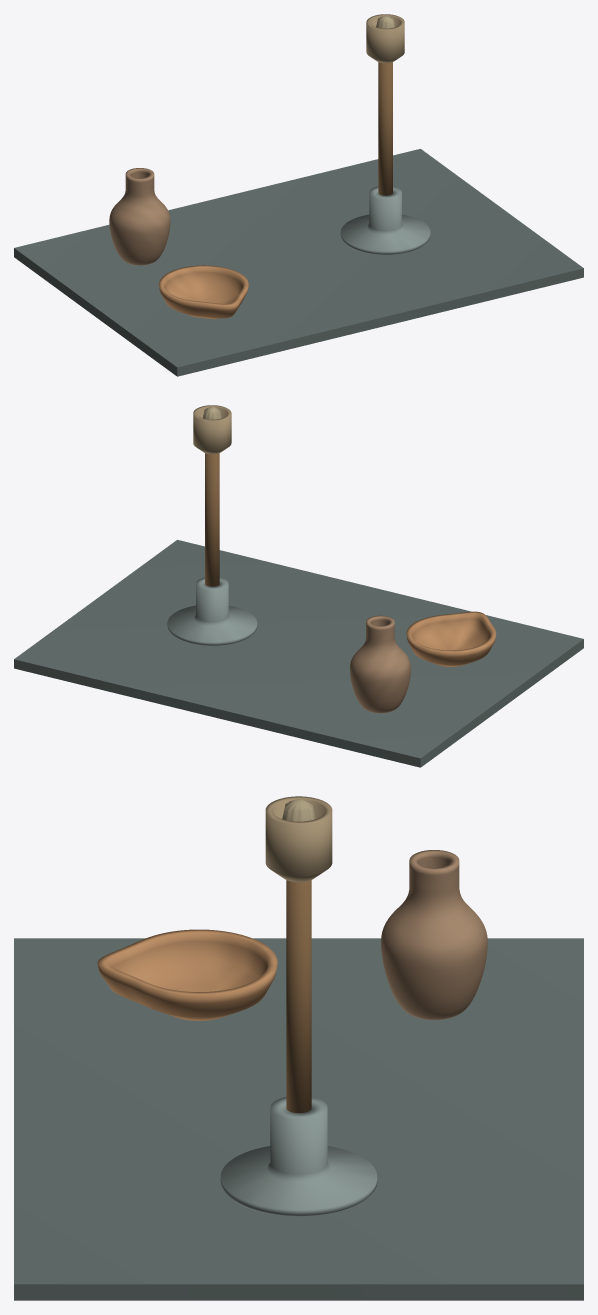
Rendered from parables-light.glb.
The picture shows the model from 3 angles, top to bottom: view 1: azimuth 30°, elevation 25°; view 2: azimuth 150°, elevation 25°; view 3: azimuth 270°, elevation 25°; orthographic projection. The views are drawn at different scales.
Parts seen in each view (by area): view 1: parables-light-parables-modern-dark-neutral-base, parables-light-parables-original-ordinary-empty-oil-bottle, parables-light-parables-original-open-lamp-comparison, parables-light-parables-explicit-modern-socket-support, parables-light-parables-original-selected-torch-staff, parables-light-parables-original-concept-reservoir-cup; view 2: parables-light-parables-modern-dark-neutral-base, parables-light-parables-original-ordinary-empty-oil-bottle, parables-light-parables-original-open-lamp-comparison, parables-light-parables-explicit-modern-socket-support, parables-light-parables-original-selected-torch-staff, parables-light-parables-original-concept-reservoir-cup; view 3: parables-light-parables-modern-dark-neutral-base, parables-light-parables-original-ordinary-empty-oil-bottle, parables-light-parables-original-open-lamp-comparison, parables-light-parables-explicit-modern-socket-support, parables-light-parables-original-selected-torch-staff, parables-light-parables-original-concept-reservoir-cup.
Part boxes in pixels (<box>): parables-light-parables-modern-dark-neutral-base: <box>14,149,583,376</box>; parables-light-parables-original-ordinary-empty-oil-bottle: <box>109,168,170,265</box>; parables-light-parables-original-open-lamp-comparison: <box>159,265,248,319</box>; parables-light-parables-explicit-modern-socket-support: <box>340,186,430,254</box>; parables-light-parables-original-selected-torch-staff: <box>378,62,392,195</box>; parables-light-parables-original-concept-reservoir-cup: <box>366,14,404,63</box>; parables-light-parables-modern-dark-neutral-base: <box>14,540,583,767</box>; parables-light-parables-original-ordinary-empty-oil-bottle: <box>350,615,410,713</box>; parables-light-parables-original-open-lamp-comparison: <box>406,611,496,666</box>; parables-light-parables-explicit-modern-socket-support: <box>167,577,257,645</box>; parables-light-parables-original-selected-torch-staff: <box>205,453,219,586</box>; parables-light-parables-original-concept-reservoir-cup: <box>193,405,231,454</box>; parables-light-parables-modern-dark-neutral-base: <box>14,938,583,1300</box>; parables-light-parables-original-ordinary-empty-oil-bottle: <box>381,850,487,1019</box>; parables-light-parables-original-open-lamp-comparison: <box>97,929,277,1020</box>; parables-light-parables-explicit-modern-socket-support: <box>220,1097,377,1216</box>; parables-light-parables-original-selected-torch-staff: <box>286,880,311,1112</box>; parables-light-parables-original-concept-reservoir-cup: <box>265,796,332,882</box>.
Bounding box in the file's own units: 1.15 × 0.62 × 0.8.
